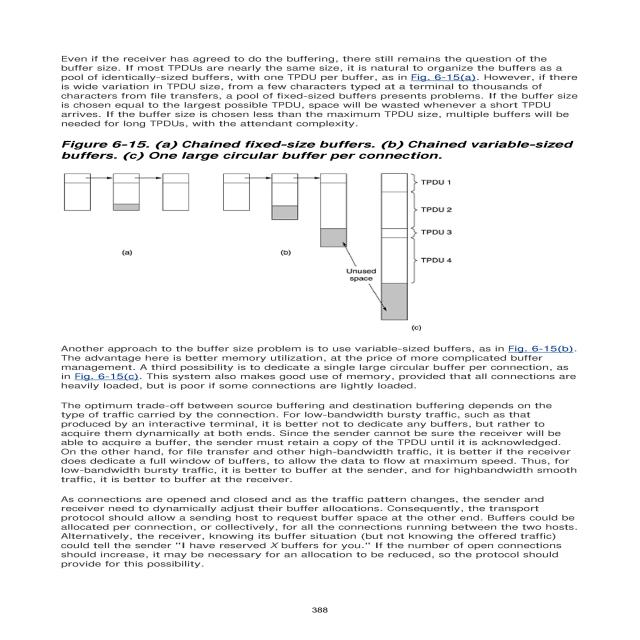diagram: (40, 132, 608, 331)
